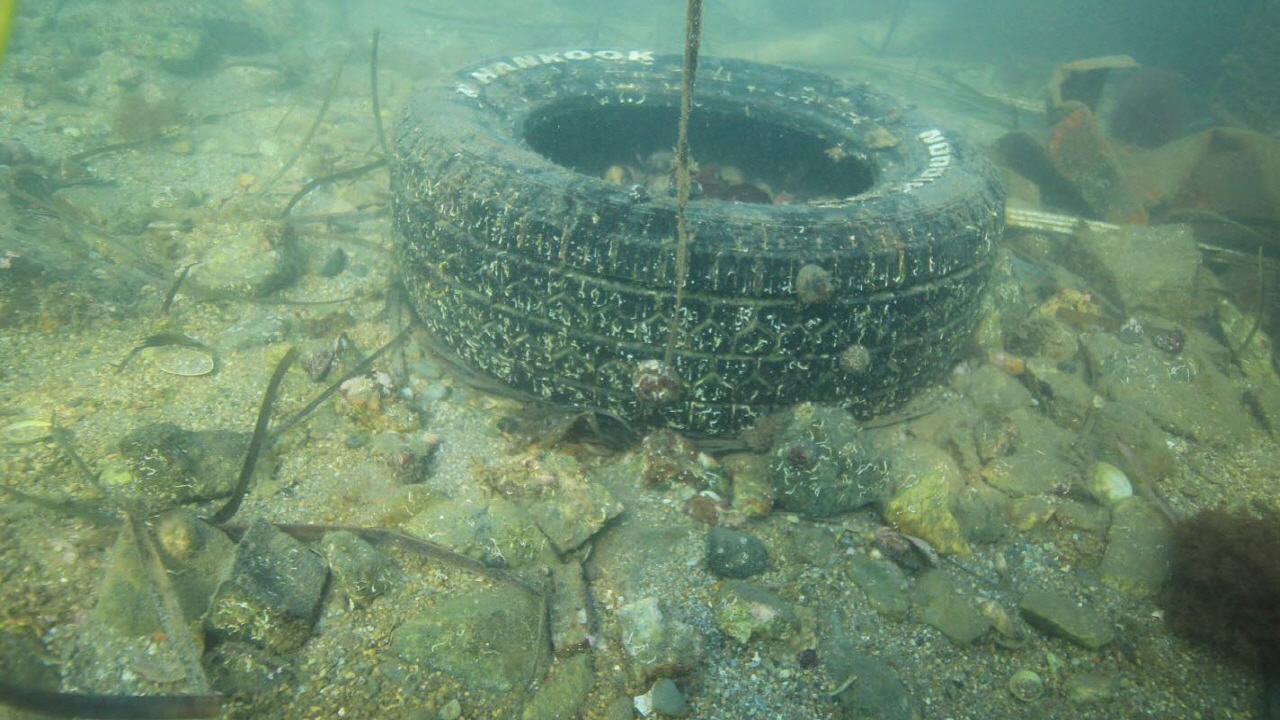tire: (386, 48, 1011, 439)
